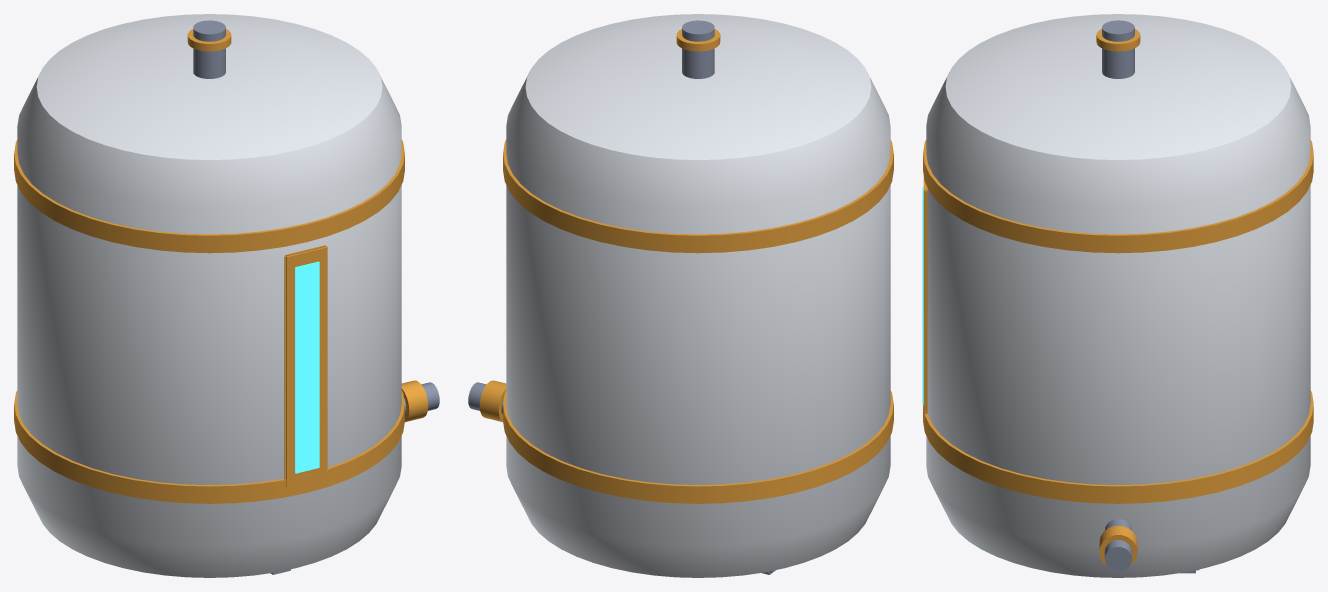
Rendered from water_tank.glb.
3 views of the same model, side by side, from view 1: azimuth 30°, elevation 25°; view 2: azimuth 150°, elevation 25°; view 3: azimuth 270°, elevation 25° (orthographic).
Visible parts, largest first — view 1: Body_White, Trim_Gold, Gauge_Emissive, Steel; view 2: Body_White, Trim_Gold, Steel; view 3: Body_White, Trim_Gold, Steel.
Part boxes in pixels (x1,y1,x2,y2): Body_White: (17, 14, 401, 577); Trim_Gold: (14, 29, 428, 503); Gauge_Emissive: (295, 261, 319, 473); Steel: (193, 20, 439, 574); Body_White: (506, 14, 890, 577); Trim_Gold: (479, 29, 893, 503); Steel: (468, 20, 775, 574); Body_White: (926, 14, 1310, 577); Trim_Gold: (923, 29, 1313, 565); Steel: (1102, 20, 1199, 573).
Bounding box in the file's own units: 0.826 × 0.99 × 0.7135.
